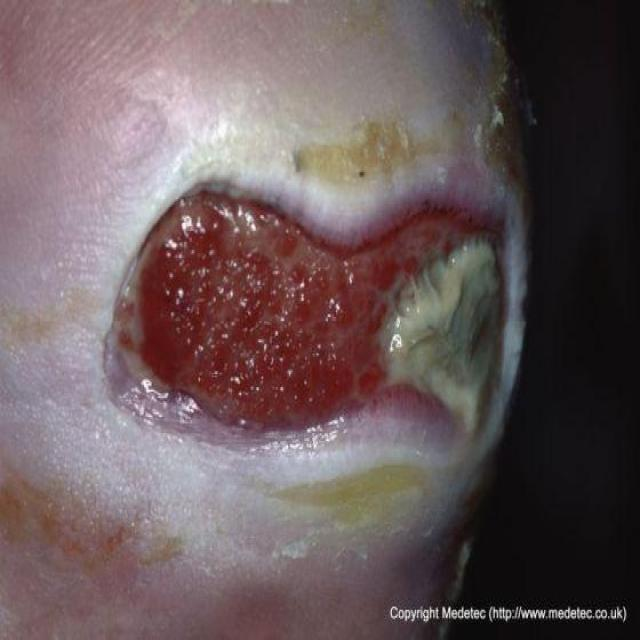Unstageable: (378, 247, 502, 431)
stage-3: (123, 194, 491, 444)
